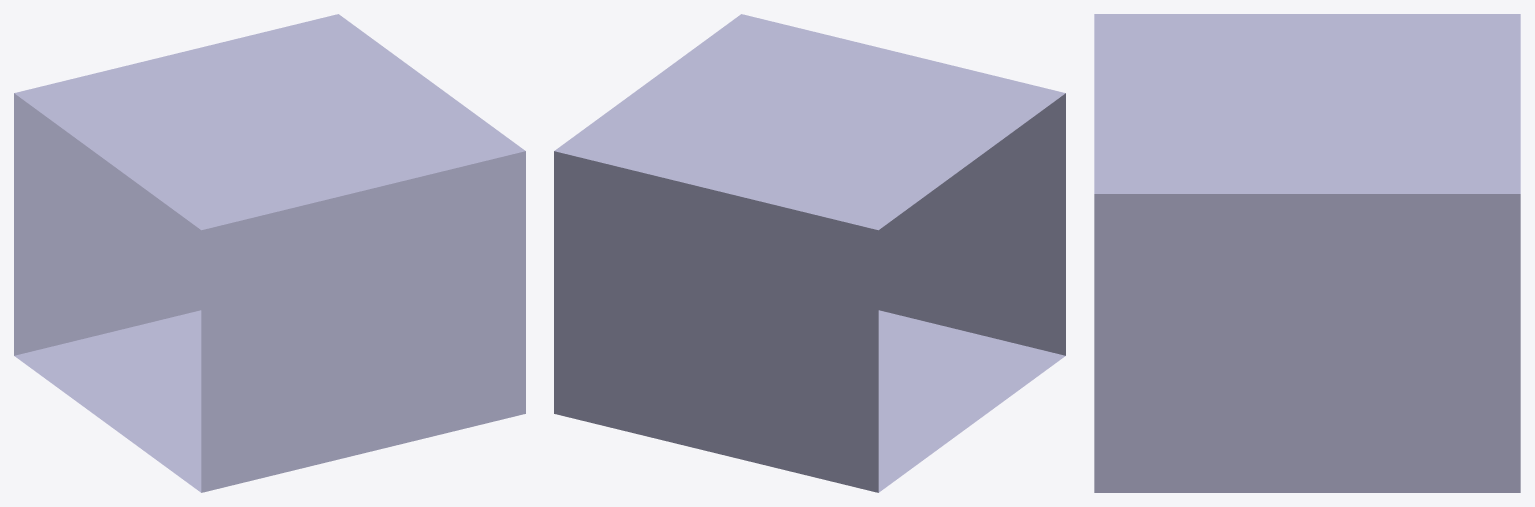
File: MiniBullTerrier.fbx
3 renders of one model, left to right at view 1: azimuth 30°, elevation 25°; view 2: azimuth 150°, elevation 25°; view 3: azimuth 270°, elevation 25°, orthographic. The views are drawn at different scales.
Visible parts, largest first — view 1: Cube; view 2: Cube; view 3: Cube.
Boxes of the visible parts, bbox=[...] form: Cube: bbox=[14, 14, 525, 492]; Cube: bbox=[554, 14, 1065, 492]; Cube: bbox=[1094, 14, 1520, 492].
Size of the model in its own units: 848 by 658 by 848.
